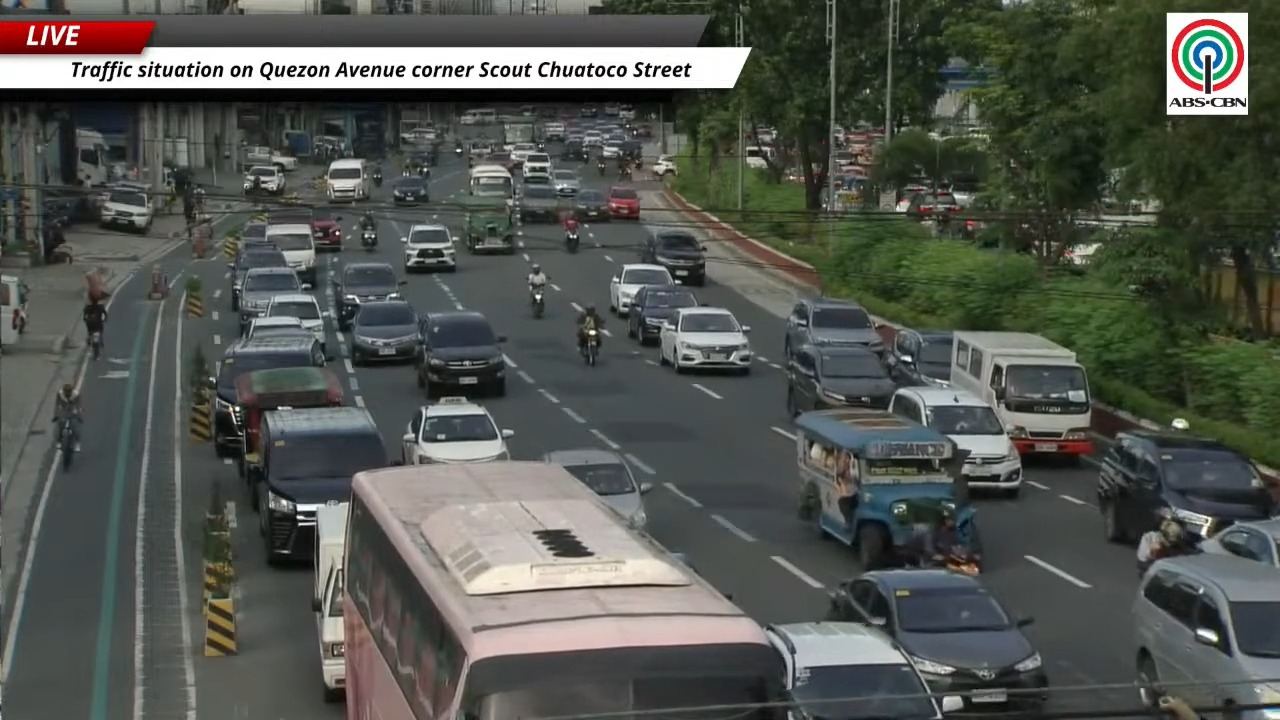bus: (344, 461, 783, 719)
car: (828, 569, 1048, 711), (1132, 553, 1279, 718), (251, 407, 389, 563), (1097, 429, 1275, 542), (764, 621, 962, 719), (209, 333, 329, 456), (889, 387, 1022, 497), (543, 448, 652, 529), (415, 311, 505, 399), (786, 346, 895, 416), (401, 396, 513, 464), (659, 306, 752, 374), (784, 297, 882, 353), (333, 262, 403, 330), (350, 299, 420, 365), (239, 267, 302, 333), (1200, 518, 1280, 569), (628, 285, 698, 343), (885, 328, 953, 386), (228, 246, 288, 311), (640, 228, 705, 285), (260, 293, 326, 349), (609, 263, 675, 315), (267, 218, 317, 285), (401, 223, 456, 272), (99, 189, 153, 233), (516, 183, 559, 221), (242, 316, 313, 339), (310, 206, 342, 251), (906, 192, 960, 218), (233, 235, 278, 263), (243, 165, 286, 194), (573, 188, 610, 221), (392, 176, 429, 205), (608, 186, 640, 219), (405, 149, 438, 179), (476, 151, 520, 173), (238, 221, 267, 249), (552, 170, 580, 196), (522, 152, 551, 175), (400, 127, 437, 144), (561, 136, 586, 161), (509, 143, 537, 165), (651, 155, 677, 177), (522, 172, 554, 188), (602, 138, 622, 159), (544, 122, 566, 141), (584, 130, 603, 147), (618, 104, 635, 120), (579, 106, 597, 118), (604, 103, 619, 117)
motorcycle: (941, 552, 980, 576), (59, 419, 74, 470), (583, 328, 599, 365), (530, 286, 544, 318), (89, 331, 102, 360), (361, 230, 377, 251), (565, 230, 579, 253), (618, 166, 631, 180), (372, 172, 382, 187), (418, 165, 429, 178), (597, 160, 605, 176), (402, 168, 411, 176), (455, 146, 462, 155)
truck: (949, 332, 1093, 457), (312, 503, 349, 702), (76, 128, 109, 186), (502, 117, 539, 151)
